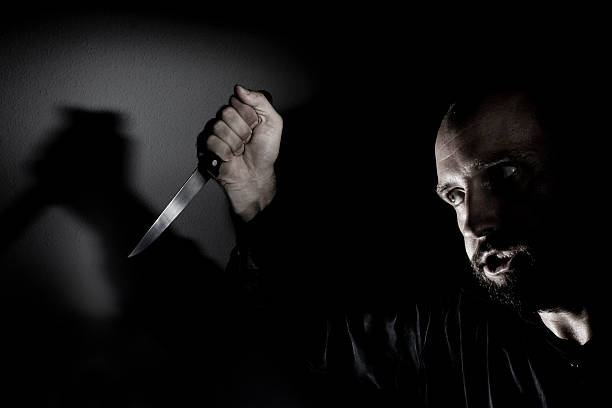knife: (127, 86, 274, 259)
